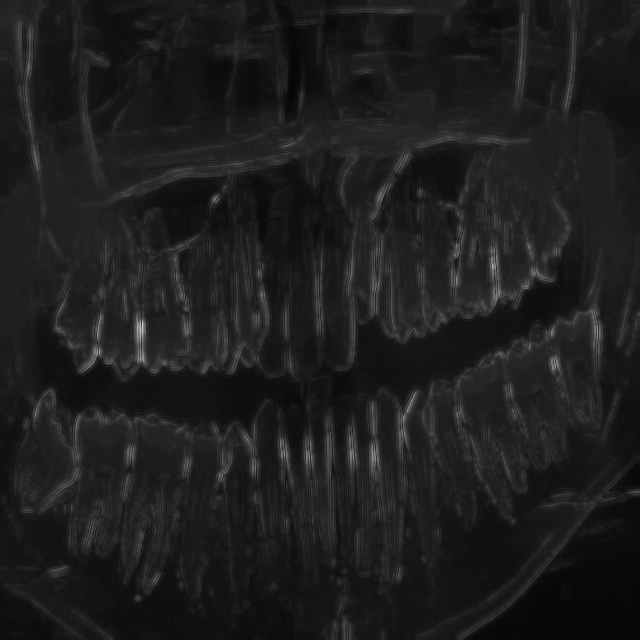cavity: (75, 383, 189, 610), (451, 341, 588, 529)
